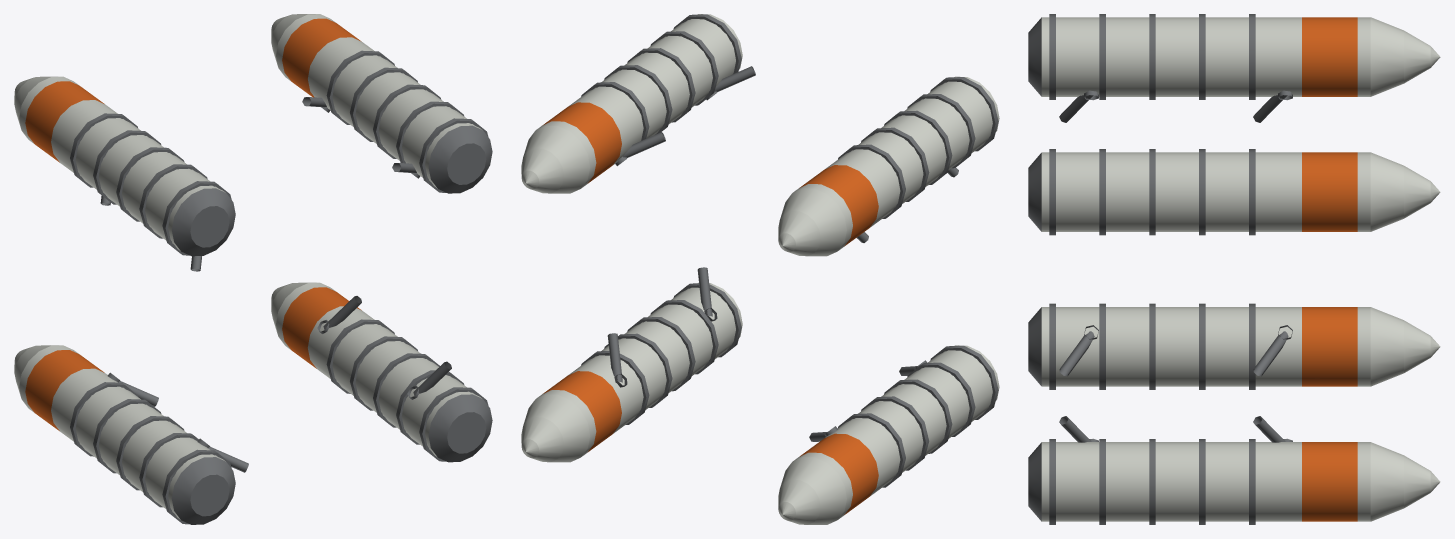
3 views of the same model, side by side, from view 1: azimuth 30°, elevation 25°; view 2: azimuth 150°, elevation 25°; view 3: azimuth 270°, elevation 25° (orthographic). The views are drawn at different scales.
Parts seen in each view (by area): view 1: u73l_hx; view 2: u73l_hx; view 3: u73l_hx.
Boxes of the visible parts, x1,y1,x2,y2 form: u73l_hx: (14,14,492,524); u73l_hx: (521,14,999,524); u73l_hx: (1028,14,1440,524).
Bounding box in the file's own units: 3.66 × 3.66 × 3.72.
